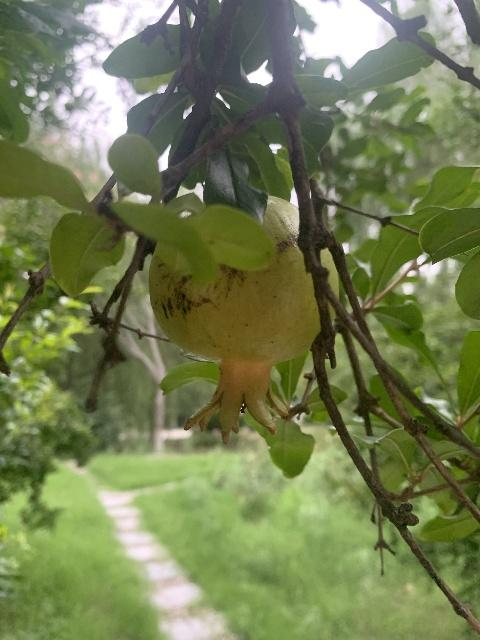mid-growth: (148, 194, 338, 444)
